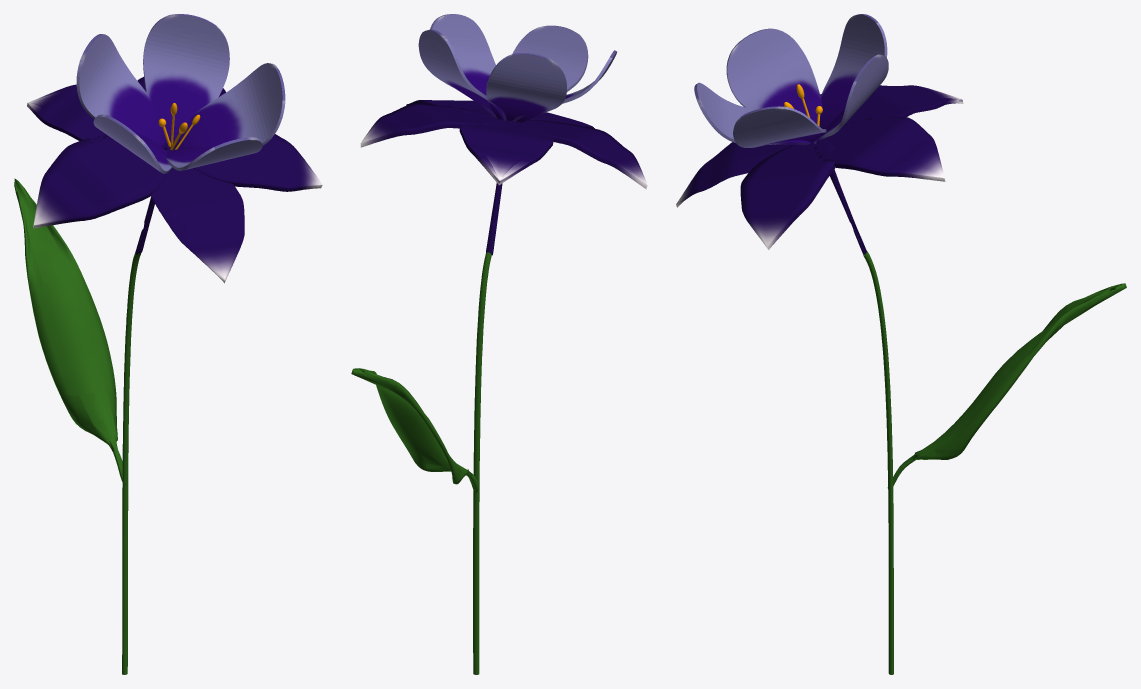
3 views of the same model, side by side, from view 1: azimuth 30°, elevation 25°; view 2: azimuth 150°, elevation 25°; view 3: azimuth 270°, elevation 25° (orthographic). The views are drawn at different scales.
Parts seen in each view (by area): view 1: f16; view 2: f16; view 3: f16.
Boxes of the visible parts, x1=… form: f16: x1=14, y1=14, x2=322, y2=674; f16: x1=351, y1=14, x2=647, y2=674; f16: x1=676, y1=14, x2=1126, y2=674.
Bounding box in the file's own units: 0.3475 × 0.805 × 0.5154.
4 materials, 2 textured.
